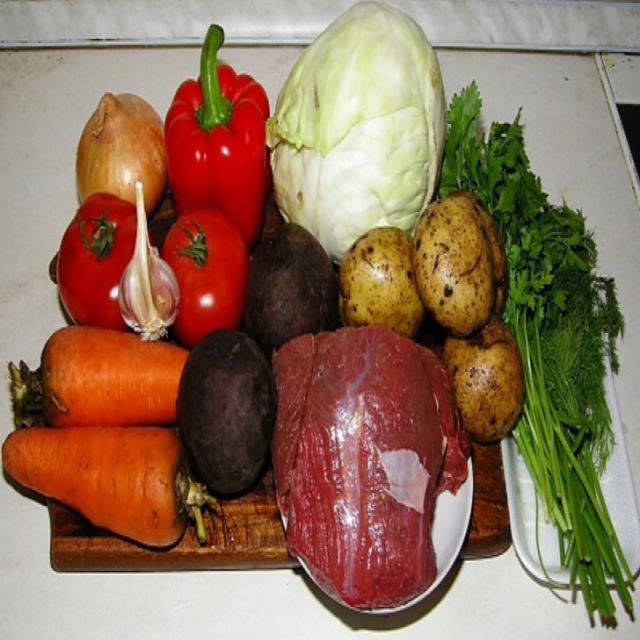beet: (179, 317, 277, 506), (248, 213, 338, 377)
bell_pepper: (174, 20, 269, 246)
cabbage: (276, 1, 446, 262)
carrot: (1, 410, 211, 568), (15, 321, 212, 440)
garlic: (120, 182, 183, 339)
onion: (77, 83, 165, 220)
potato: (419, 190, 512, 326), (448, 300, 526, 437), (342, 222, 425, 347)
tomato: (41, 177, 137, 327), (164, 211, 246, 339)
